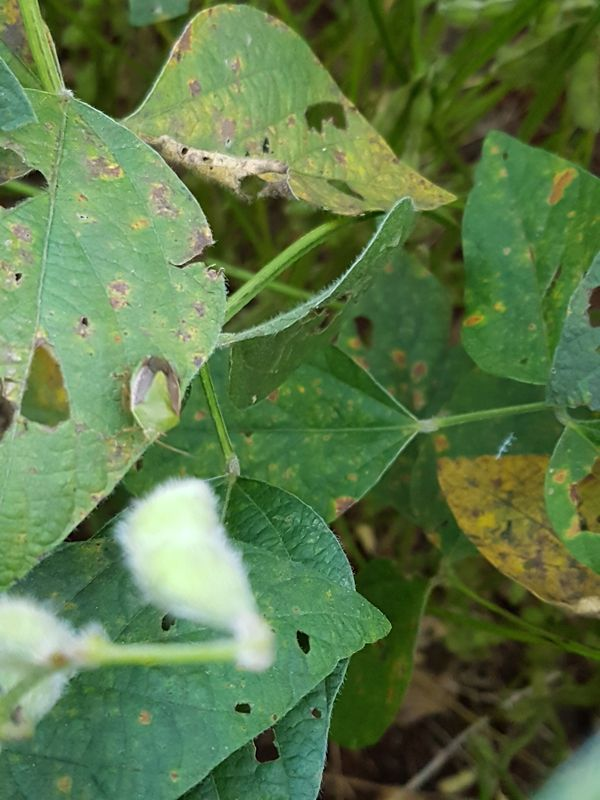Edessa_meditabunda: (99, 340, 208, 478)
